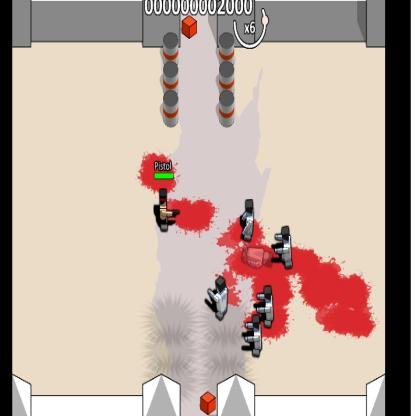agent: (156, 182, 171, 230)
jombie: (214, 276, 229, 322), (278, 226, 294, 268), (249, 315, 263, 357), (262, 284, 274, 328), (244, 198, 254, 242)
